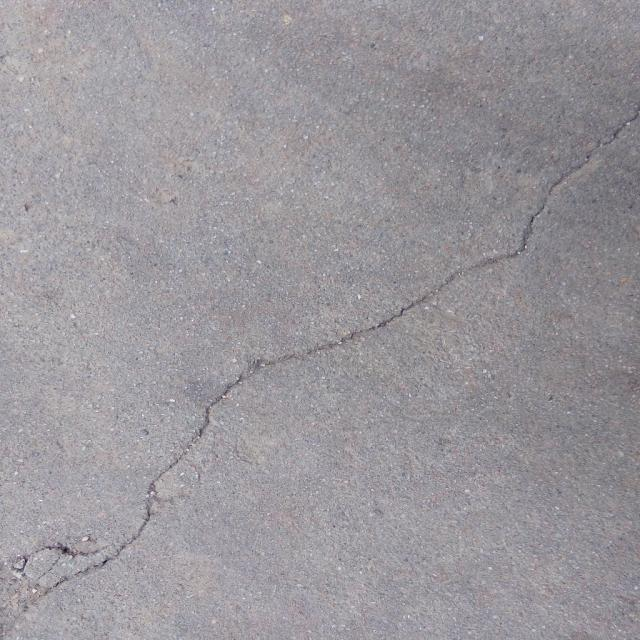cracks: (0, 66, 640, 640)
